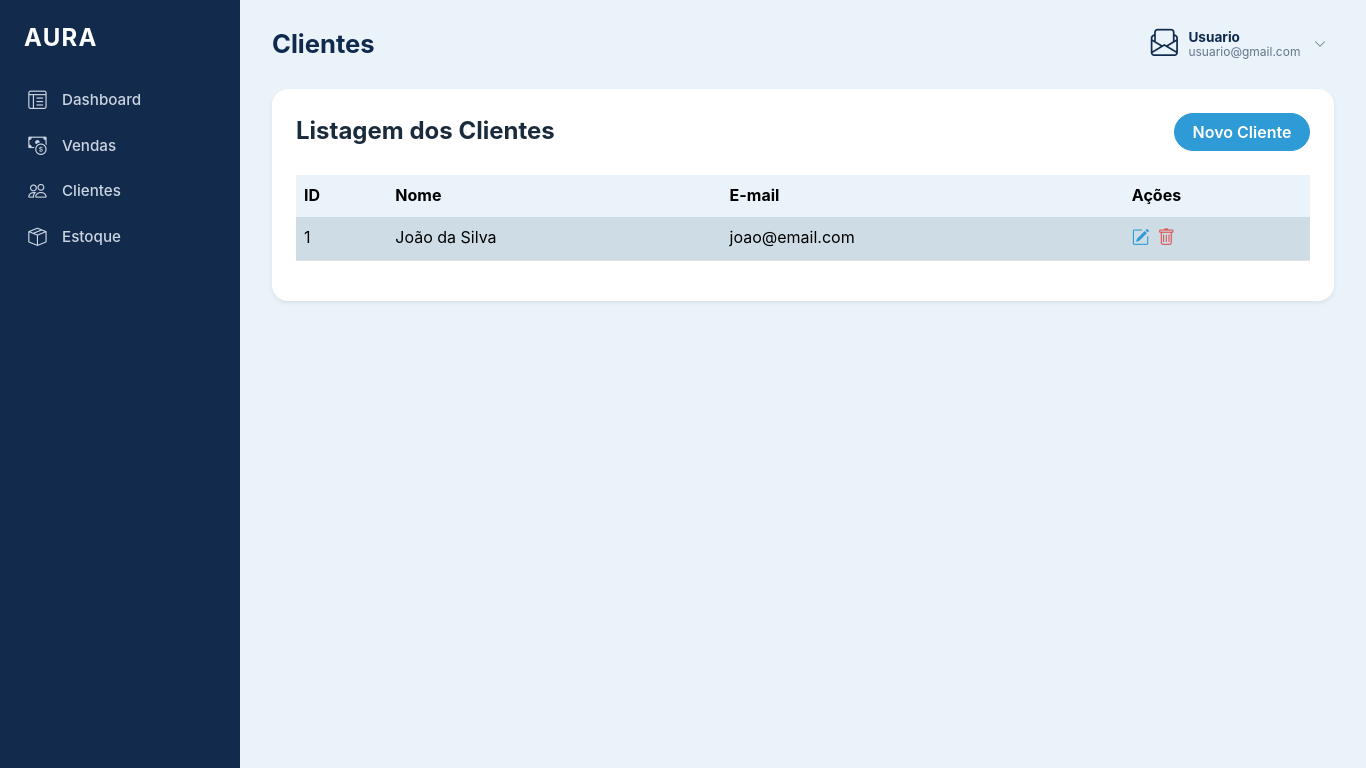
Scenario: Page Cliente › deve abrir o modal de edição com os dados ao clicar em Editar e recarregar os dados ao salvar
Expected: the text "João da Silva" is shown, [387, 216, 722, 260]
Click the button titled "Editar". click: {"x": 1141, "y": 238}
box: [1132, 225, 1149, 252]
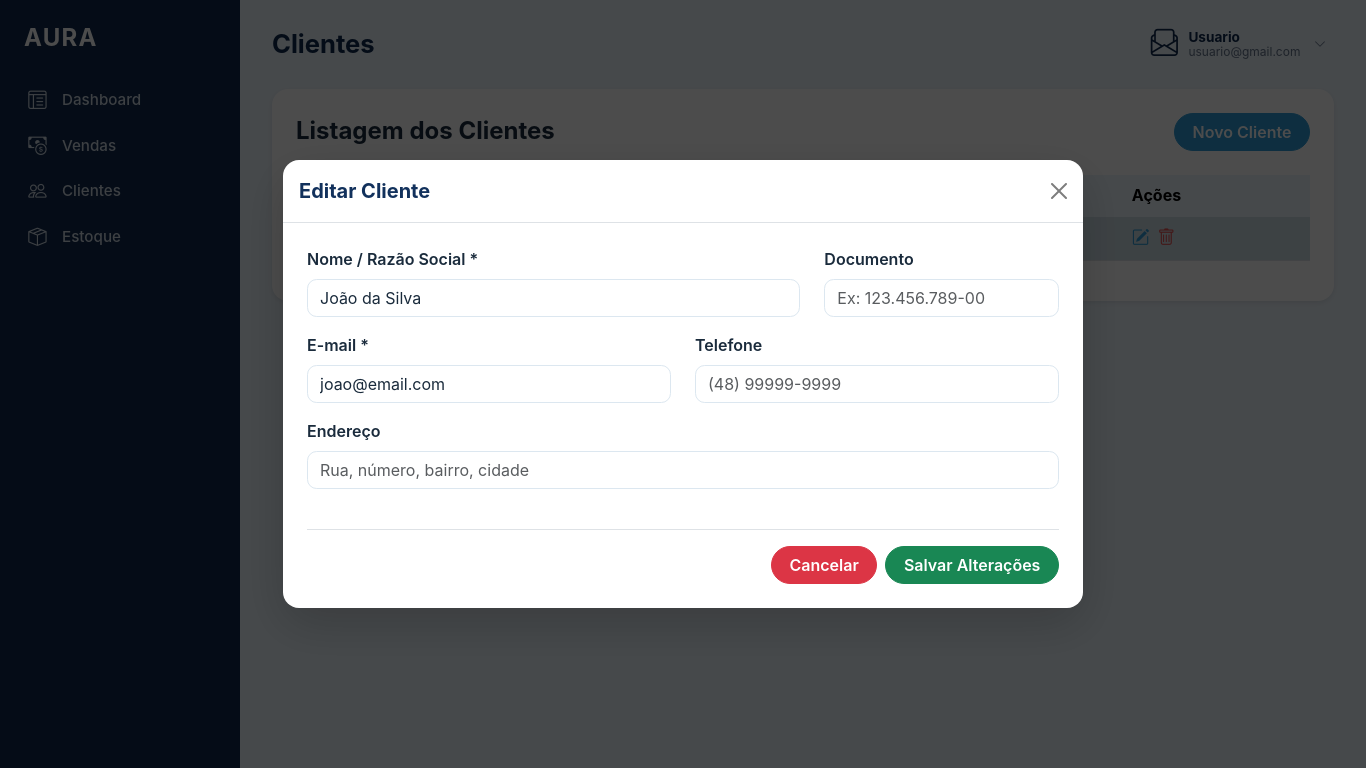
Expected: the heading "Editar Cliente" is shown, [299, 176, 430, 206]
Expected: the field labelled "Nome / Razão Social *" holds "João da Silva"
Expected: the field labelled "E-mail *" holds "joao@email.com", [307, 365, 671, 403]
Replace the text in the field labelled "Nome / Razão Social *" with "João da Silva Editado". click: {"x": 554, "y": 298}
box: [307, 279, 800, 317]
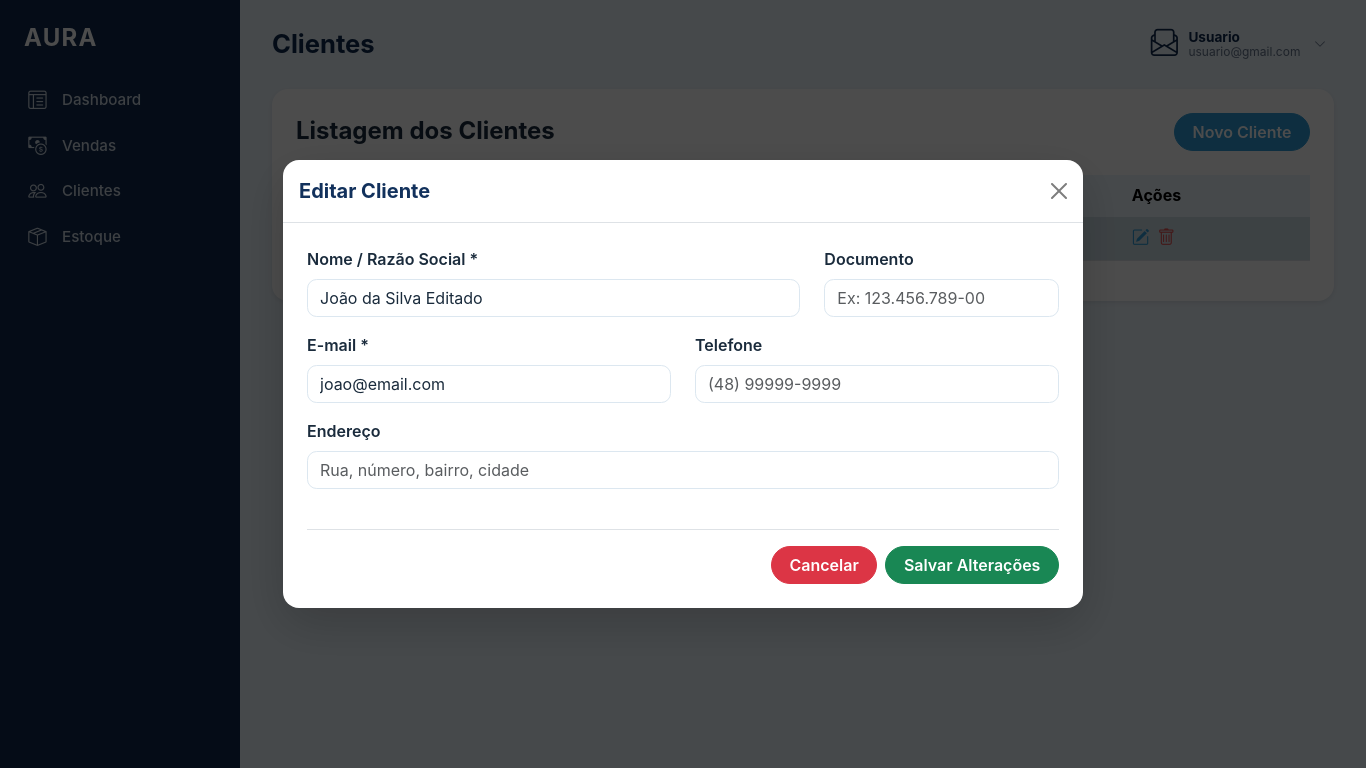
Click the button "Salvar Alterações". click: {"x": 972, "y": 565}
box: [885, 546, 1059, 584]
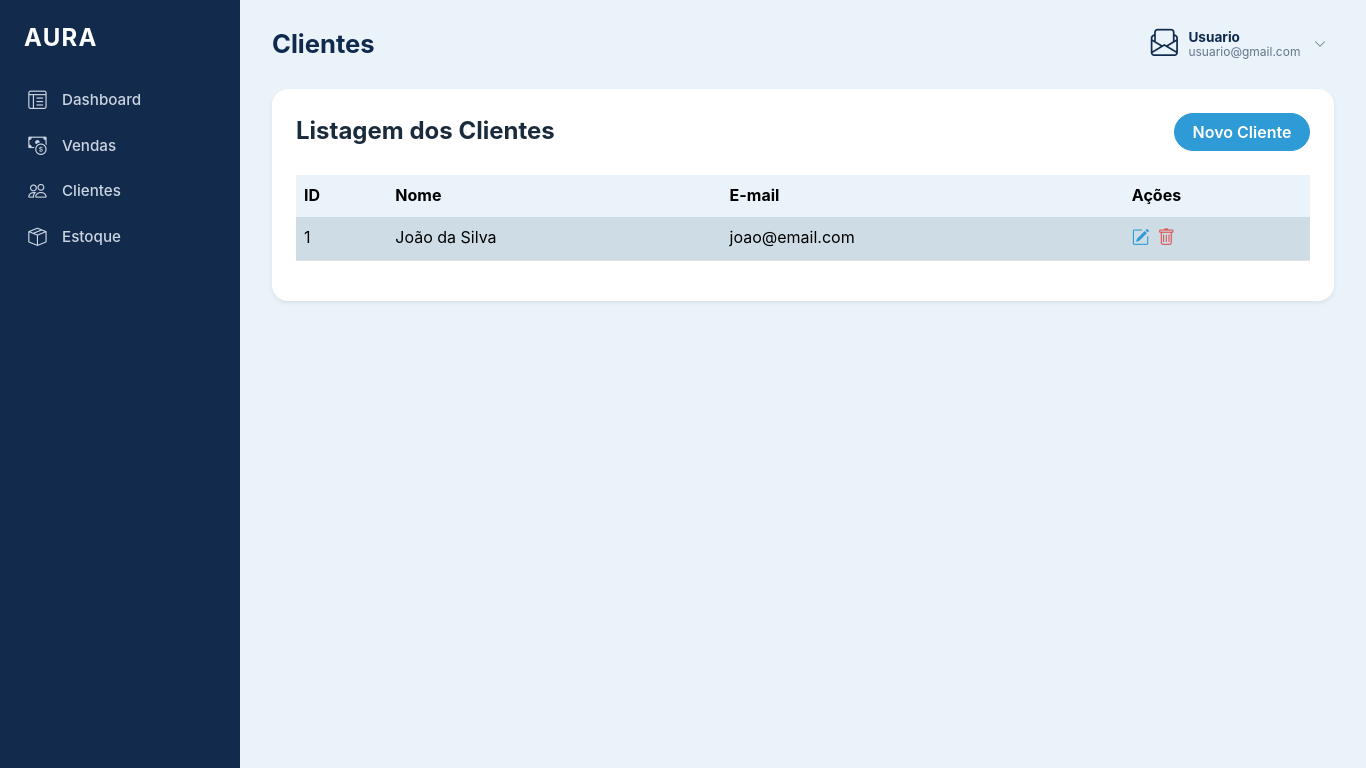
Expected: the heading "Editar Cliente" is gone
